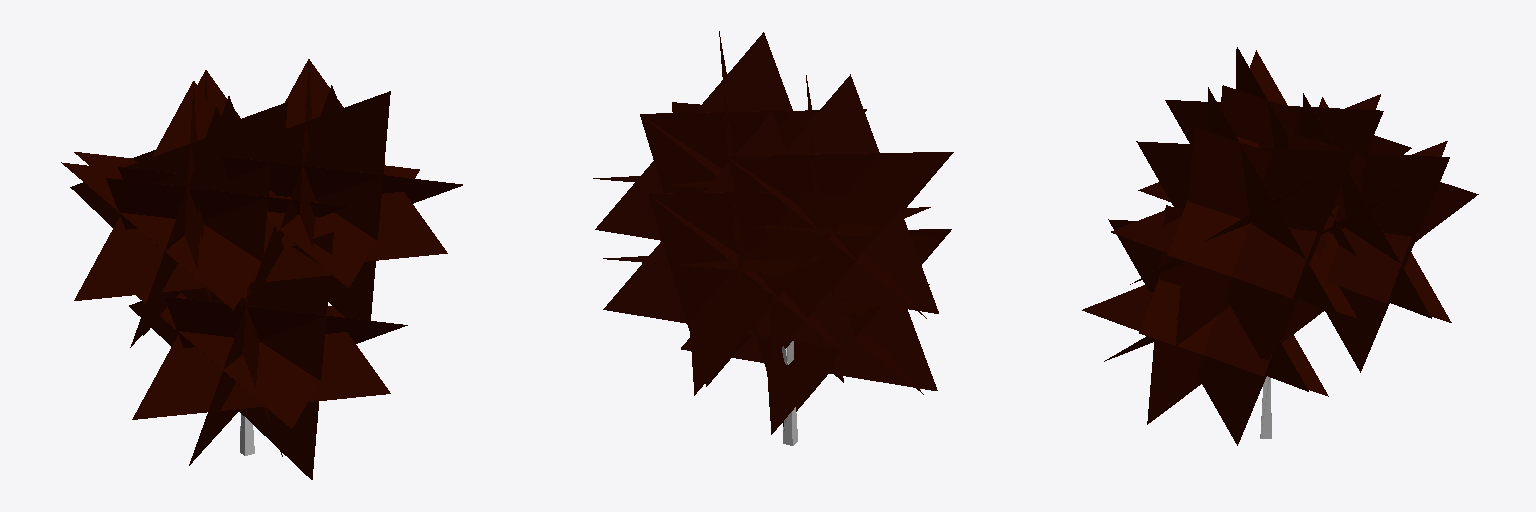
Rendered from LuaSapling.obj.
3 views of the same model, side by side, from view 1: azimuth 30°, elevation 25°; view 2: azimuth 150°, elevation 25°; view 3: azimuth 270°, elevation 25° (orthographic).
Visible parts, largest first — view 1: Cube.004; view 2: Cube.004; view 3: Cube.004.
Part boxes in pixels (x1,y1,x2,y2): Cube.004: (61,59,462,479); Cube.004: (593,31,953,445); Cube.004: (1082,47,1478,445).
Bounding box in the file's own units: 23.75 × 25.04 × 23.96.